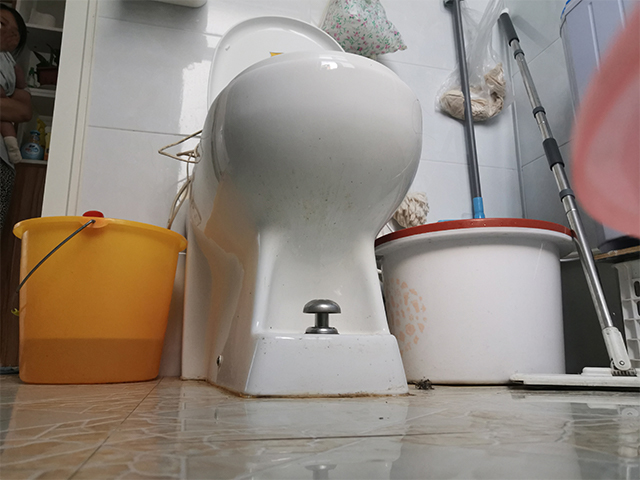closestool: (176, 15, 423, 400)
